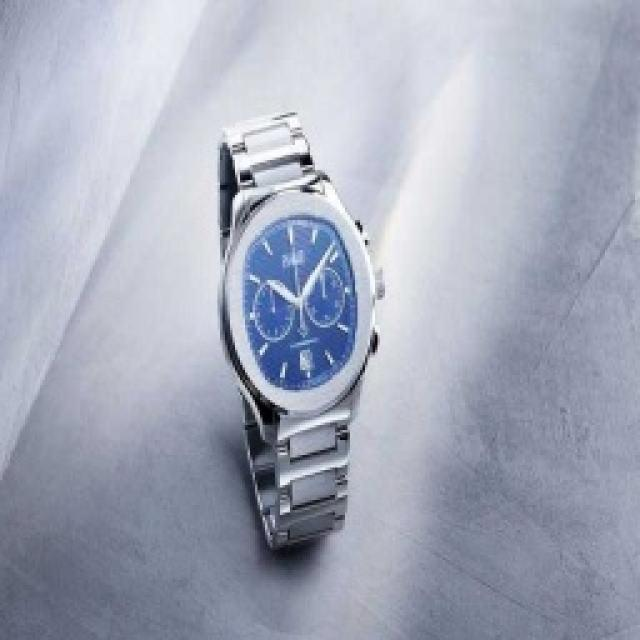saat: (190, 109, 403, 555)
